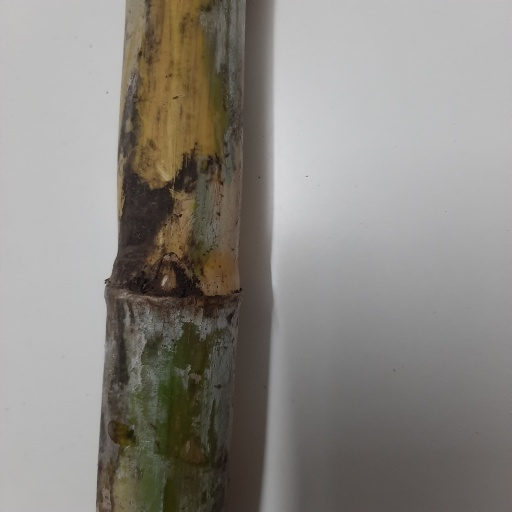Bud: (153, 261, 184, 296)
